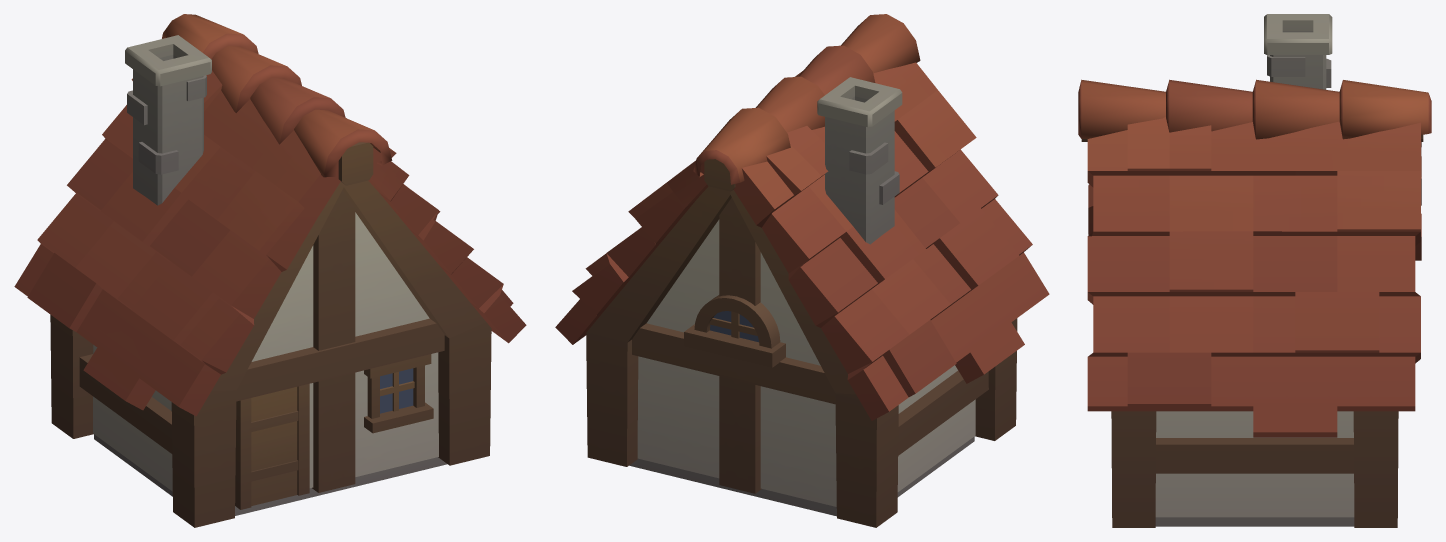
Rendered from chonkyHouse1.fbx.
3 views of the same model, side by side, from view 1: azimuth 30°, elevation 25°; view 2: azimuth 150°, elevation 25°; view 3: azimuth 270°, elevation 25° (orthographic). The views are drawn at different scales.
Parts seen in each view (by area): view 1: chonkyHouse1; view 2: chonkyHouse1; view 3: chonkyHouse1.
Boxes of the visible parts, bbox=[...] form: chonkyHouse1: bbox=[14, 14, 526, 527]; chonkyHouse1: bbox=[555, 14, 1049, 527]; chonkyHouse1: bbox=[1078, 14, 1431, 527].
Size of the model in its own units: 404 by 417 by 332.
